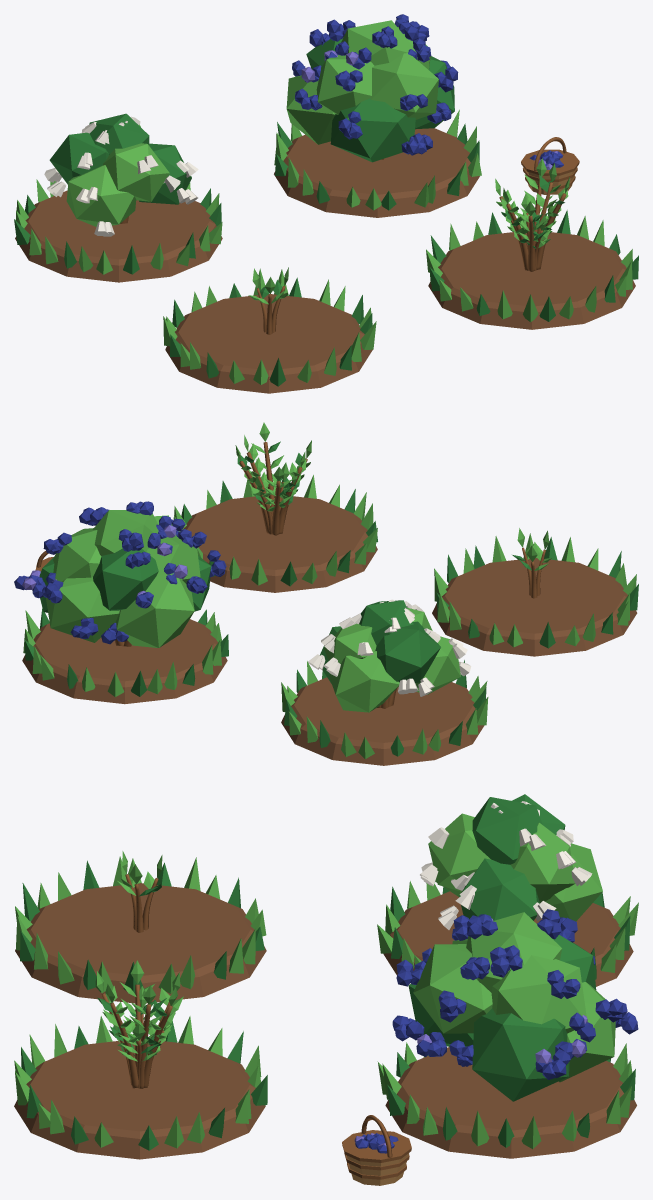
The model's file is blueberry-bush-stages.glb.
3 renders of one model, top to bottom at view 1: azimuth 30°, elevation 25°; view 2: azimuth 150°, elevation 25°; view 3: azimuth 270°, elevation 25°, orthographic. The views are drawn at different scales.
Visible parts, largest first — view 1: Blueberry_Stage4, Blueberry_Stage3, Blueberry_Stage2, Blueberry_Stage1, Basket_Blueberries; view 2: Blueberry_Stage4, Blueberry_Stage3, Blueberry_Stage2, Blueberry_Stage1; view 3: Blueberry_Stage4, Blueberry_Stage2, Blueberry_Stage1, Blueberry_Stage3, Basket_Blueberries.
Boxes of the visible parts, x1=… form: Blueberry_Stage4: x1=274, y1=14, x2=481, y2=217; Blueberry_Stage3: x1=14, y1=113, x2=222, y2=282; Blueberry_Stage2: x1=426, y1=158, x2=638, y2=329; Blueberry_Stage1: x1=163, y1=267, x2=376, y2=393; Basket_Blueberries: x1=521, y1=137, x2=579, y2=194; Blueberry_Stage4: x1=14, y1=501, x2=228, y2=704; Blueberry_Stage3: x1=281, y1=599, x2=488, y2=765; Blueberry_Stage2: x1=173, y1=422, x2=377, y2=592; Blueberry_Stage1: x1=432, y1=528, x2=638, y2=656; Blueberry_Stage4: x1=377, y1=909, x2=638, y2=1158; Blueberry_Stage2: x1=14, y1=960, x2=267, y2=1159; Blueberry_Stage1: x1=15, y1=851, x2=266, y2=1003; Blueberry_Stage3: x1=377, y1=794, x2=638, y2=986; Basket_Blueberries: x1=342, y1=1115, x2=411, y2=1185.
Bounding box in the file's own units: 13.22 × 3.91 × 11.91.
